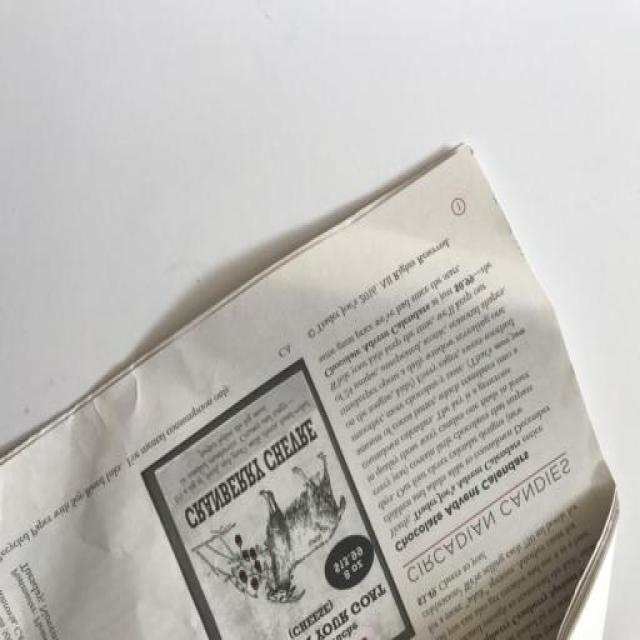paper: (1, 142, 621, 638)
